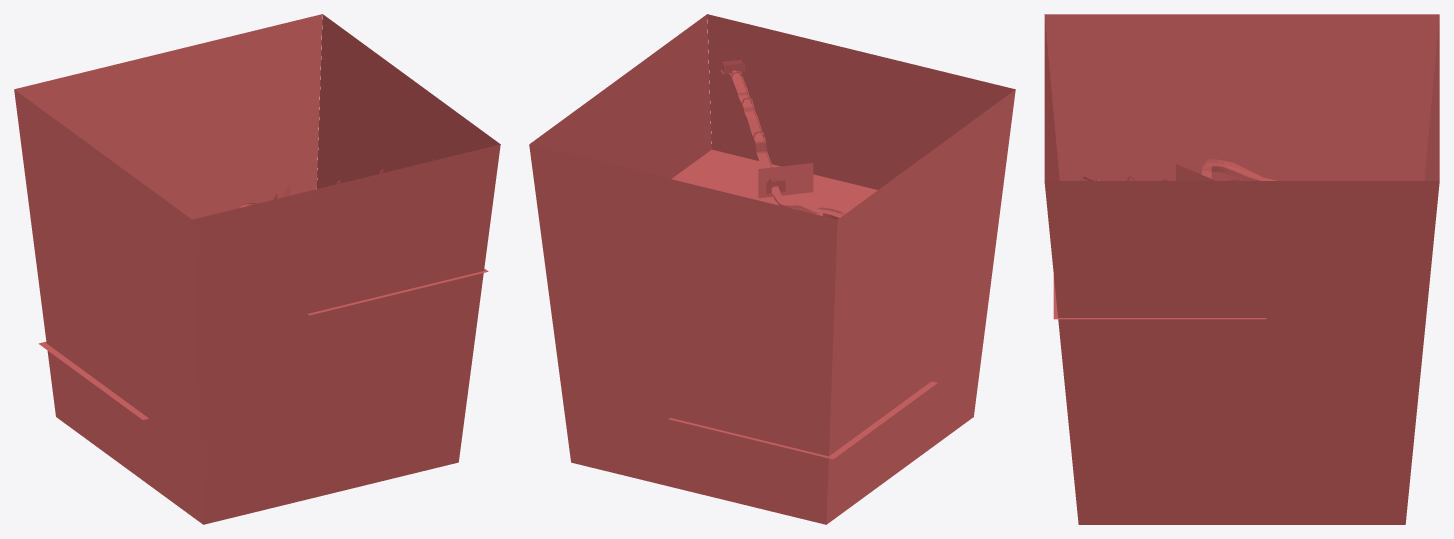
The model's file is high_slider.glb.
3 renders of one model, left to right at view 1: azimuth 30°, elevation 25°; view 2: azimuth 150°, elevation 25°; view 3: azimuth 270°, elevation 25°, orthographic. The views are drawn at different scales.
Visible parts, largest first — view 1: high_slider_col; view 2: high_slider_col; view 3: high_slider_col.
Part boxes in pixels (x1,y1,x2,y2): high_slider_col: (14, 14, 500, 524); high_slider_col: (529, 14, 1015, 524); high_slider_col: (1044, 14, 1439, 524).
Bounding box in the file's own units: 32.03 × 32.01 × 32.02.
